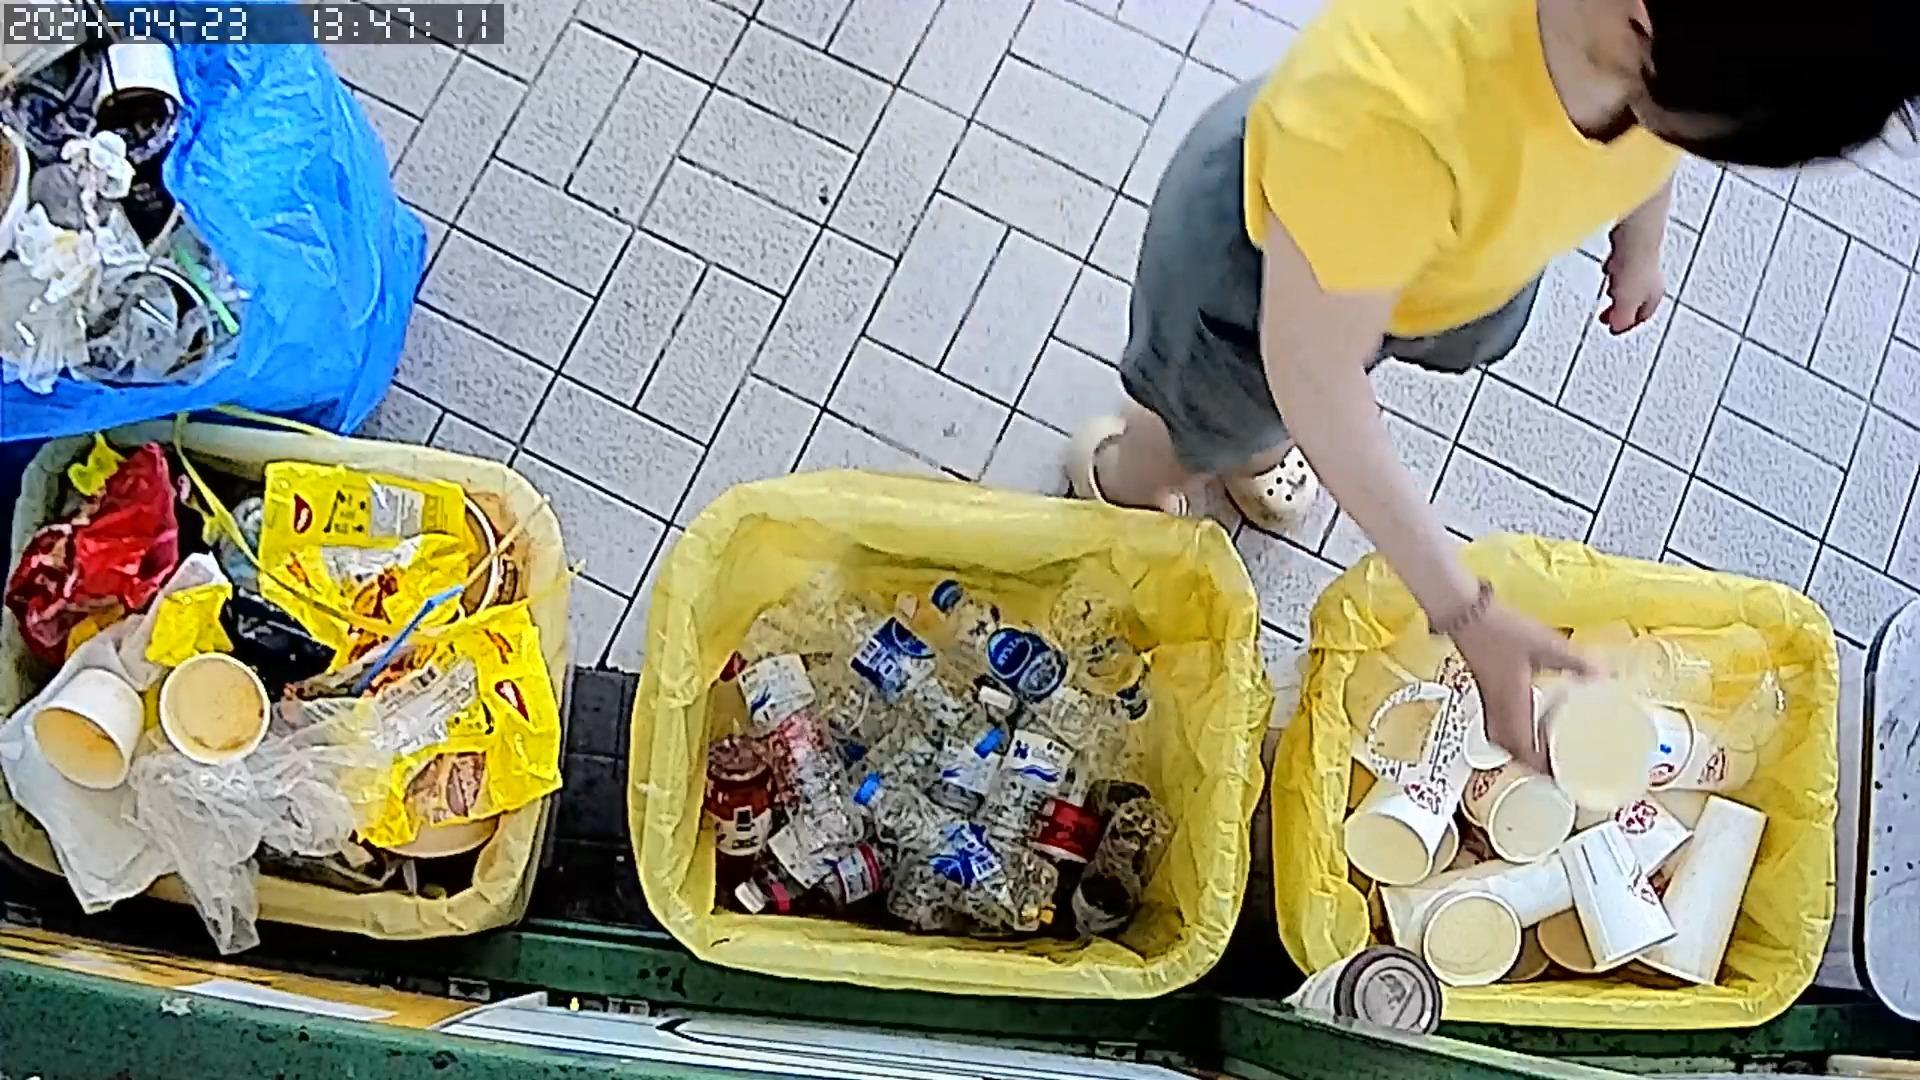can: (705, 738, 777, 869)
food container: (170, 628, 287, 762), (33, 667, 156, 790), (1416, 880, 1532, 989)
plastic bag: (5, 560, 243, 927), (150, 696, 397, 945)
plastic bottle: (783, 542, 1011, 761), (728, 608, 877, 860), (936, 570, 1096, 756), (860, 773, 1038, 927), (1009, 735, 1114, 928), (990, 667, 1108, 837), (1064, 794, 1185, 945), (1047, 588, 1153, 728)
plastic cup: (1622, 615, 1795, 723), (1344, 647, 1469, 793)
snack packaging: (316, 595, 564, 853), (0, 434, 196, 669), (245, 447, 463, 642)
sticks: (463, 485, 547, 580)
straw: (345, 583, 460, 684)
zero waste cup: (1638, 793, 1774, 1004), (1336, 731, 1485, 887), (1549, 816, 1684, 976), (1468, 760, 1588, 877), (1655, 700, 1763, 798), (1598, 783, 1695, 880)
